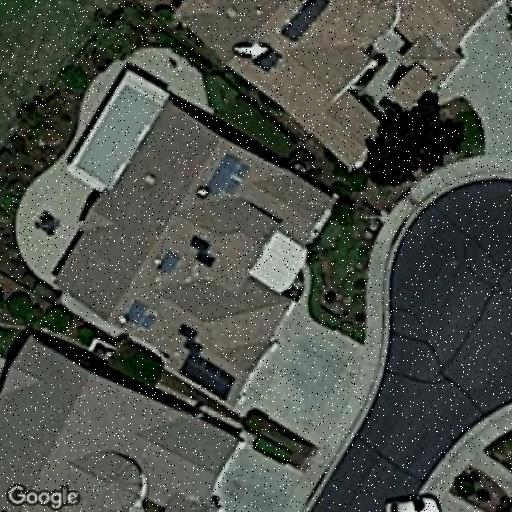solar-panel: (174, 322, 236, 400), (200, 151, 252, 200), (277, 0, 331, 46), (122, 295, 159, 331), (188, 233, 218, 267), (154, 246, 184, 278)
